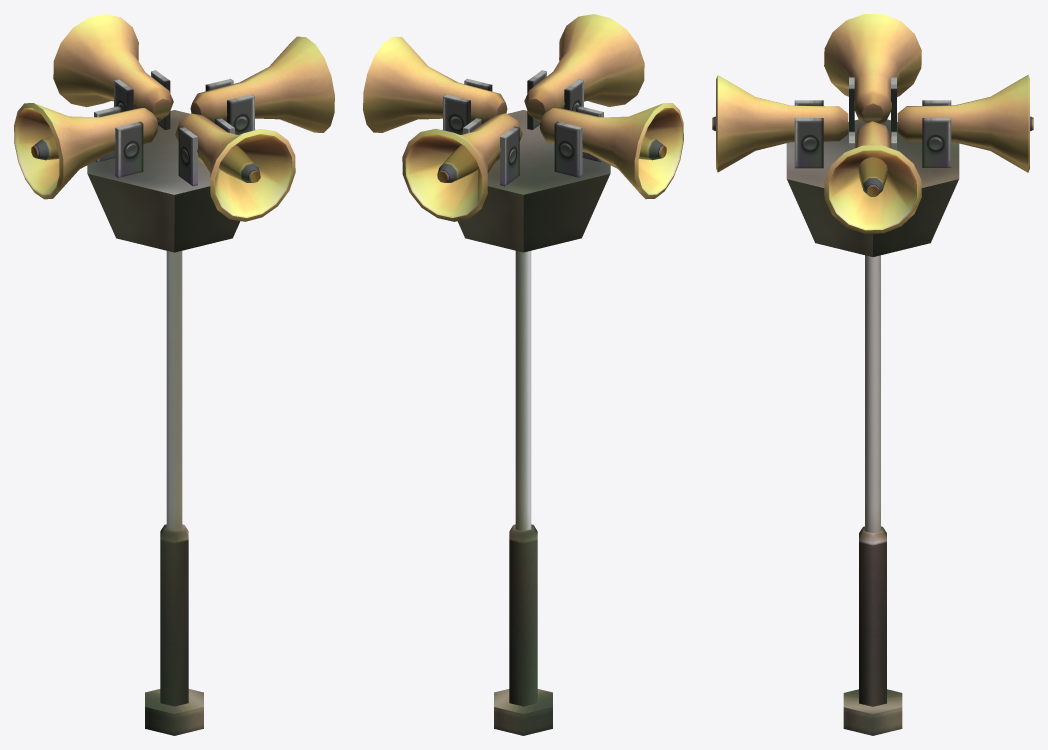
Rendered from pillar02.FBX.
3 views of the same model, side by side, from view 1: azimuth 30°, elevation 25°; view 2: azimuth 150°, elevation 25°; view 3: azimuth 270°, elevation 25° (orthographic).
Visible parts, largest first — view 1: pillar02; view 2: pillar02; view 3: pillar02.
Boxes of the visible parts, x1,y1,x2,y2 form: pillar02: (14, 14, 334, 735); pillar02: (363, 14, 683, 735); pillar02: (712, 14, 1033, 735).
Bounding box in the file's own units: 71.04 × 157 × 71.04.
